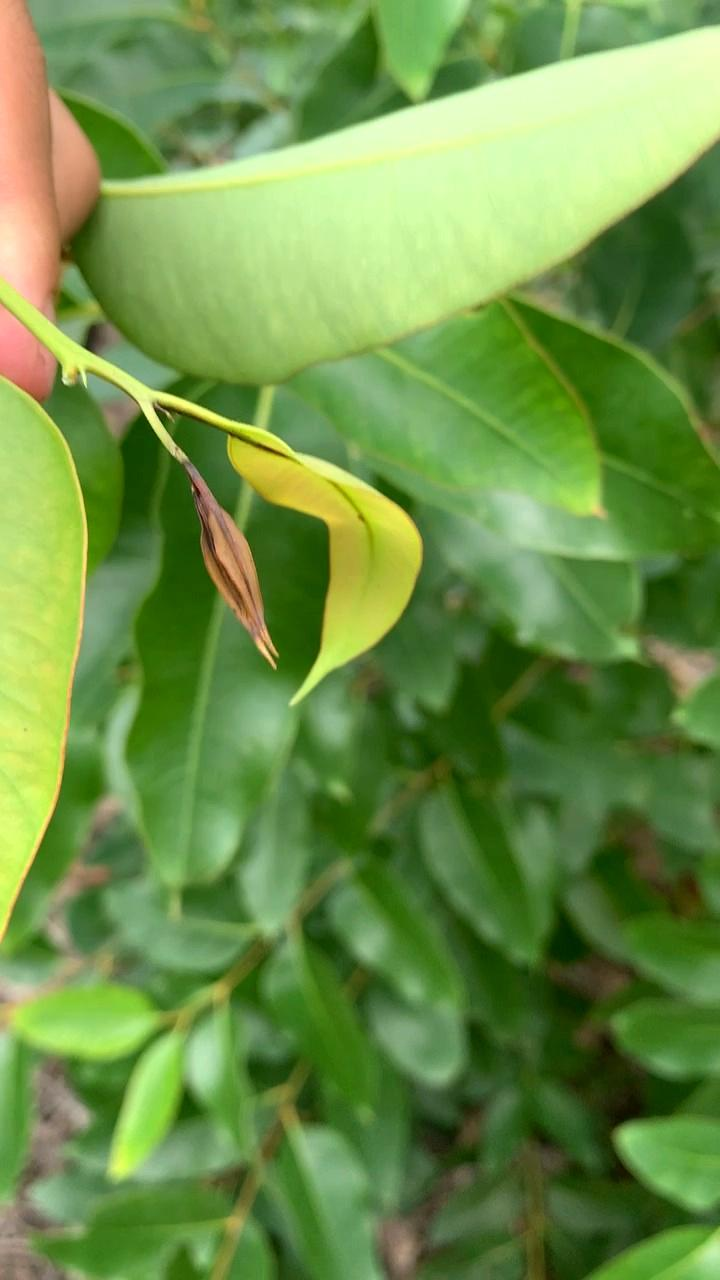Helopeltis-Withered Sprout: (180, 466, 285, 685)
